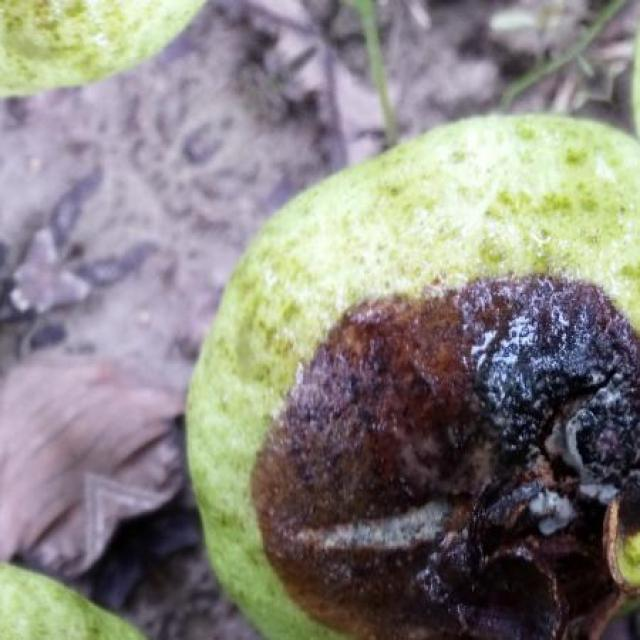Styler and Root: (190, 116, 640, 640)
